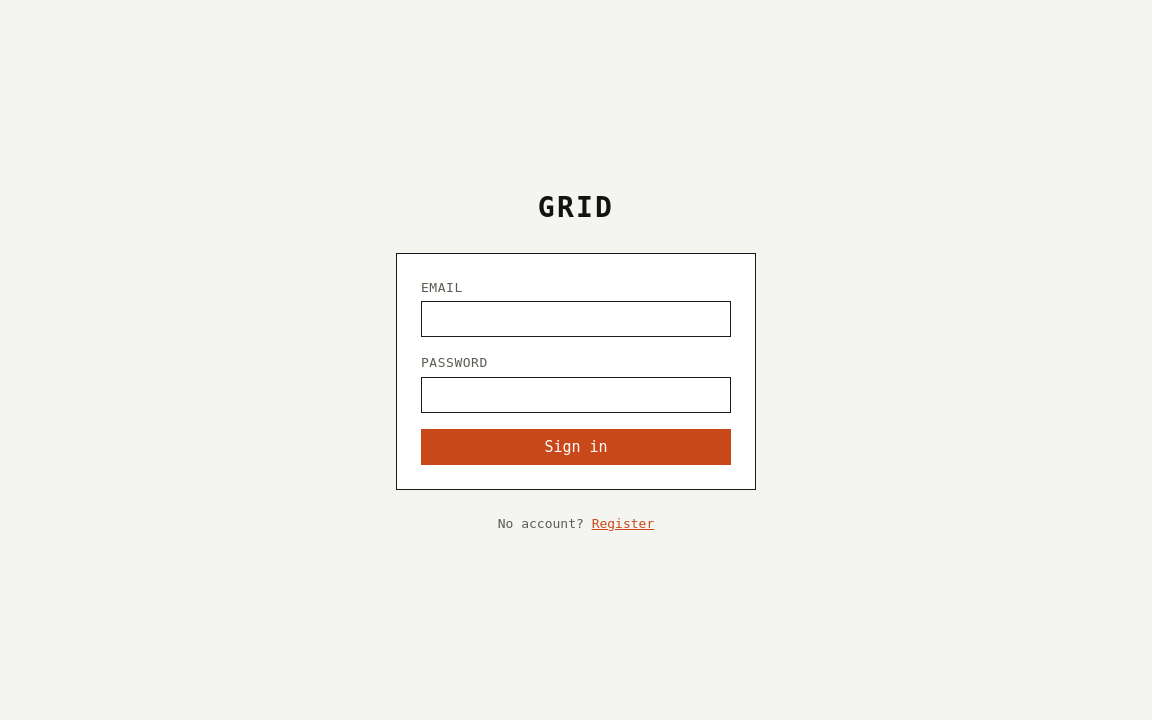
Test case: routing › logs in and lands on the case list
Type "a@example.com" into the field labelled "Email". click: [576, 319]
box: x1=421 y1=301 x2=731 y2=337
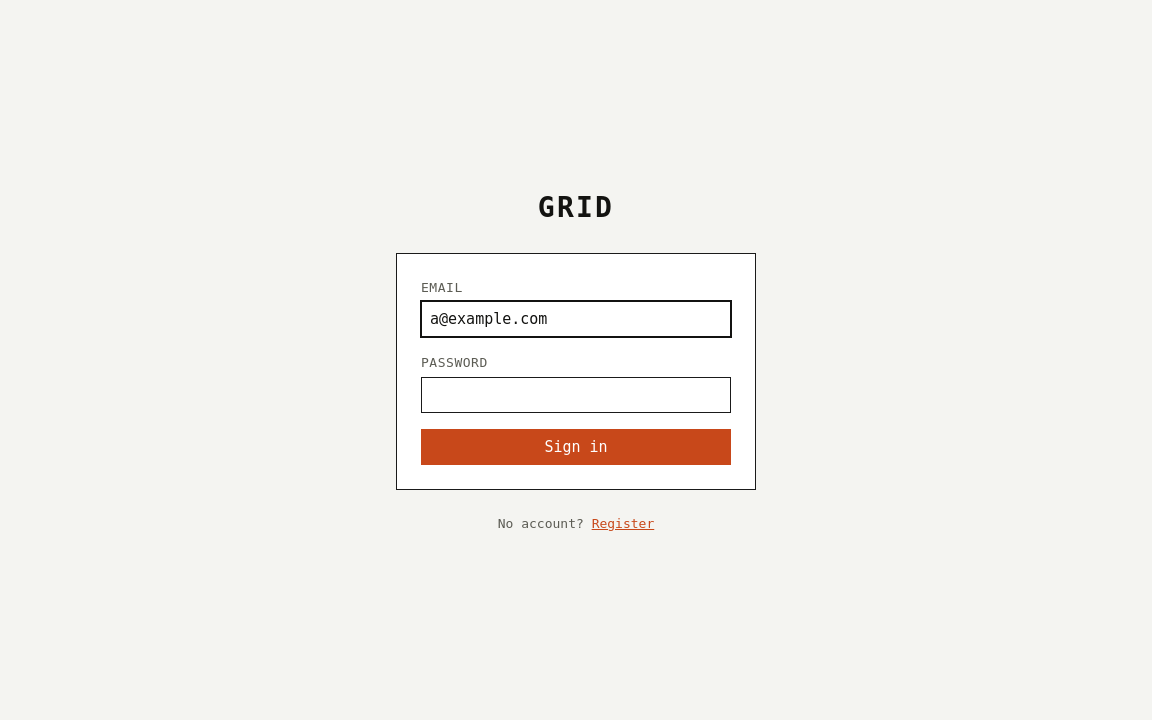
Type "hunter22" into the password field labelled "Password". click: [576, 395]
box: x1=421 y1=377 x2=731 y2=413
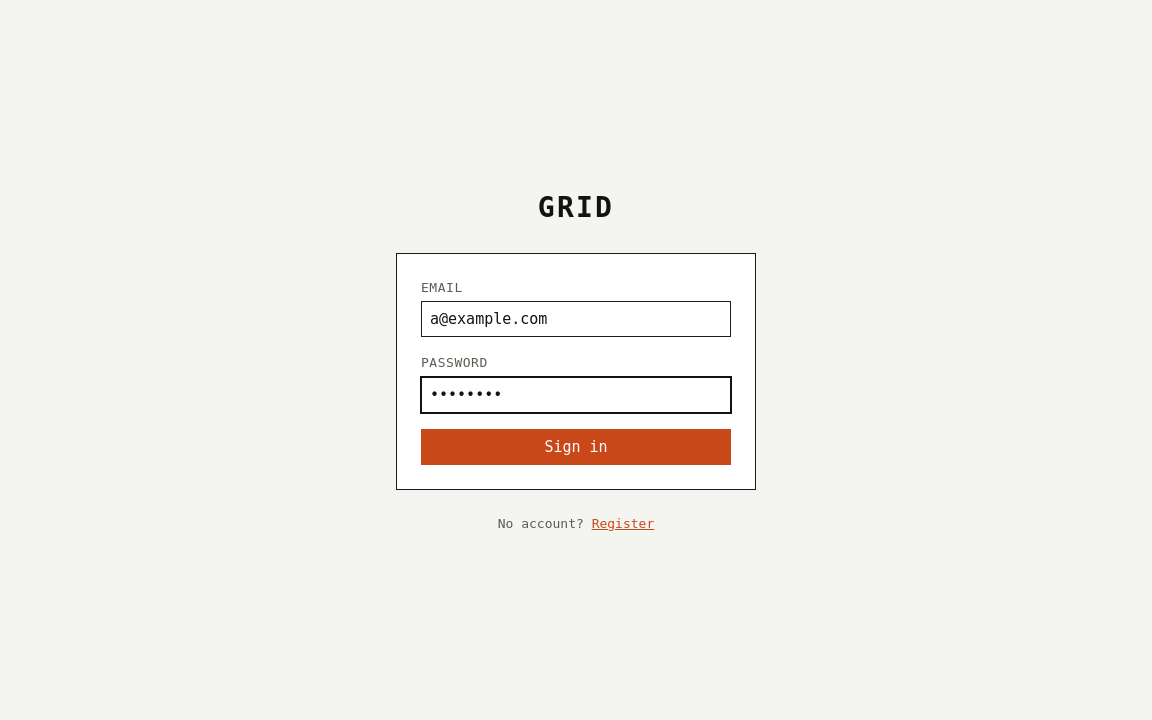
Click the button "Sign in". click: [576, 447]
box: x1=421 y1=429 x2=731 y2=465
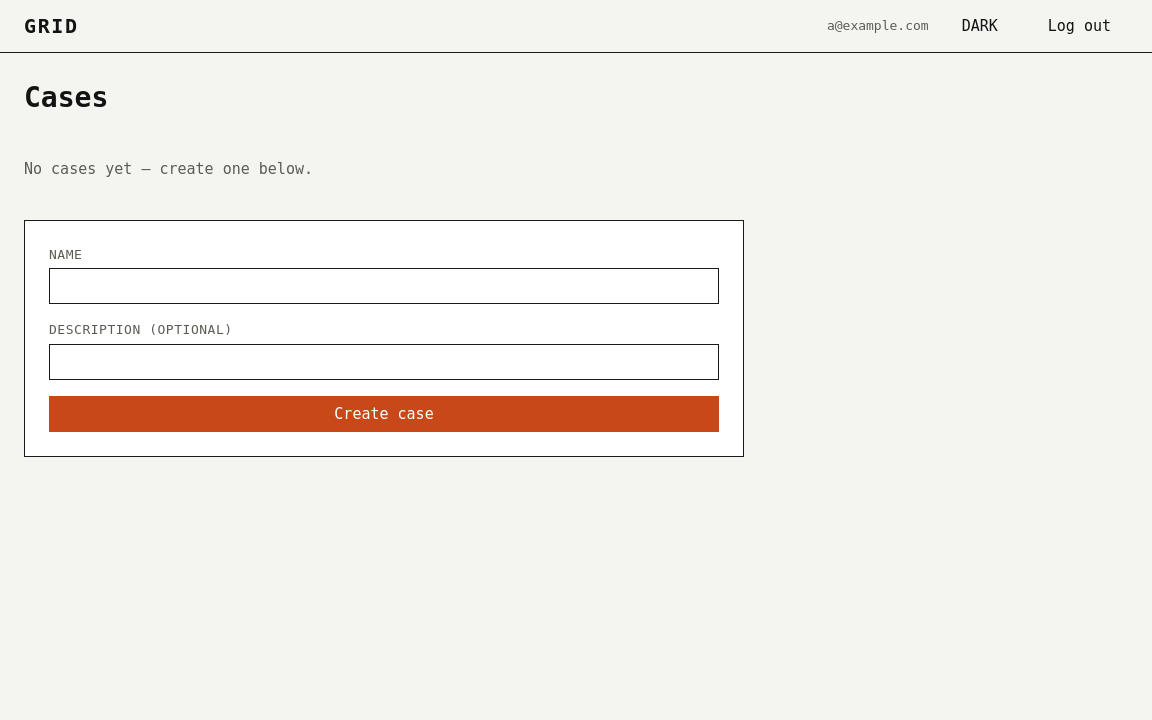
Expected: the heading "Cases" is shown, x1=24 y1=77 x2=108 y2=119
